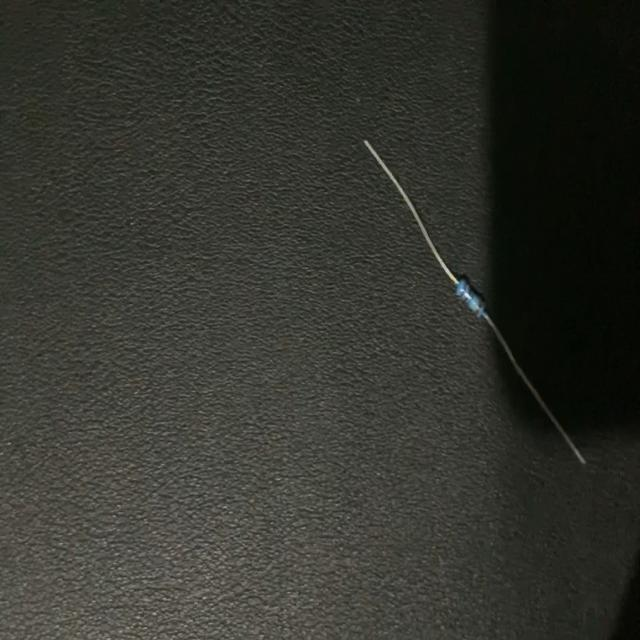resistor: (366, 139, 588, 467)
